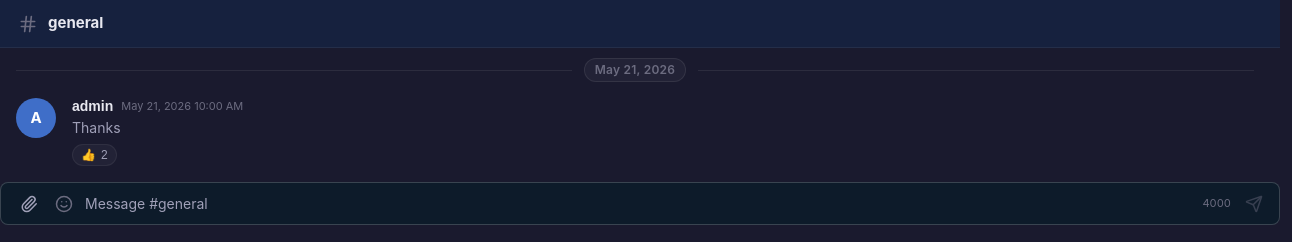
Scenario: ChatArea regressions › shows reaction authors on hover when the API provides them
Hover over the button named "reaction from alice, bob".
mouse_move(94, 155)  # box [72,144,117,166]
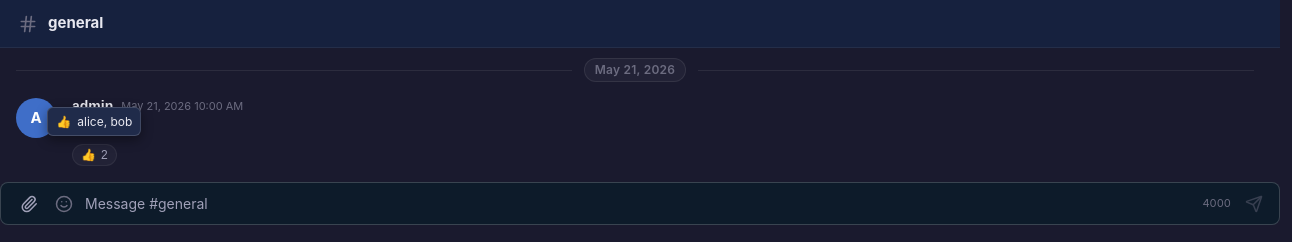
Expected: the tooltip shows "alice, bob", [77,114,132,129]
